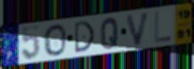5: (19, 24, 41, 62)
D: (73, 20, 96, 55)
L: (154, 11, 172, 44)
O: (43, 23, 68, 57)
Q: (100, 17, 120, 51)
V: (125, 10, 152, 48)
